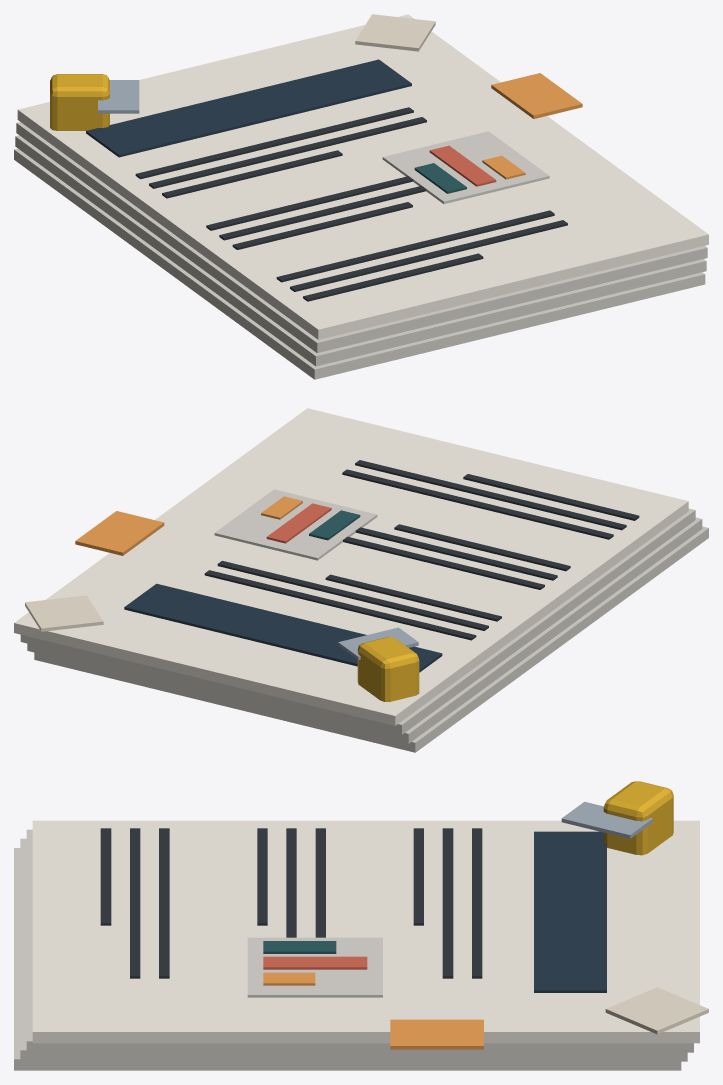
The model's file is Collectible_ResearchNotes.glb.
The picture shows the model from 3 angles, top to bottom: view 1: azimuth 30°, elevation 25°; view 2: azimuth 150°, elevation 25°; view 3: azimuth 270°, elevation 25°; orthographic projection. The views are drawn at different scales.
Parts seen in each view (by area): view 1: Collectible_ResearchNotes; view 2: Collectible_ResearchNotes; view 3: Collectible_ResearchNotes.
Part boxes in pixels (x1=…): Collectible_ResearchNotes: x1=14, y1=14, x2=708, y2=379; Collectible_ResearchNotes: x1=14, y1=408, x2=708, y2=752; Collectible_ResearchNotes: x1=14, y1=781, x2=708, y2=1070.
Bounding box in the file's own units: 0.2687 × 0.048 × 0.3332.
